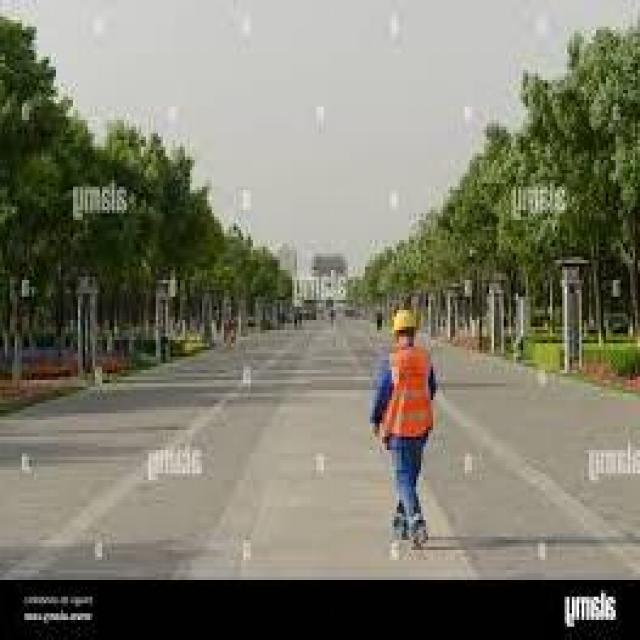Reflective-Jacket: (377, 343, 441, 447)
Safety-Helmet: (384, 296, 428, 346)
